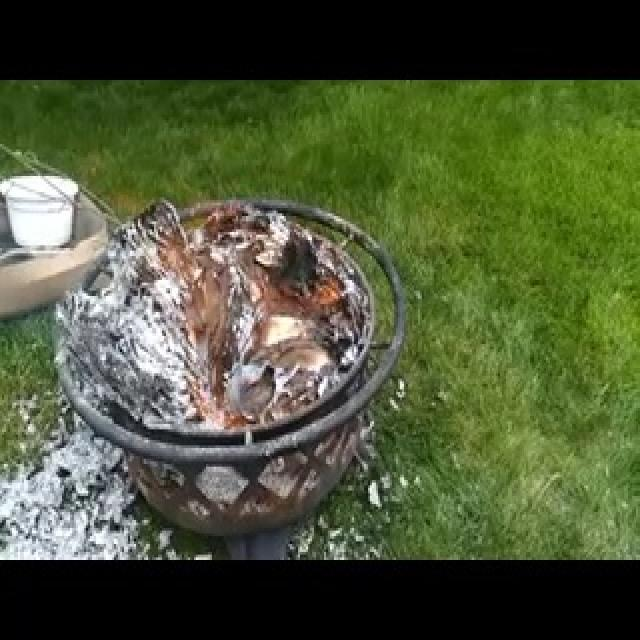fire: (147, 258, 293, 434)
